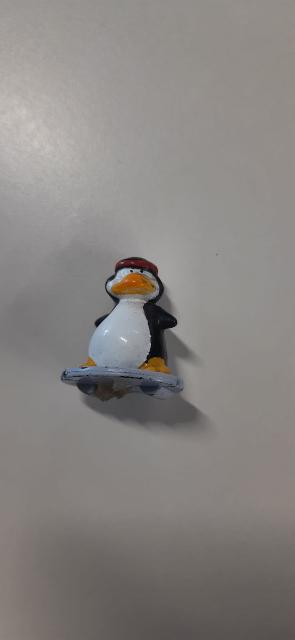Penguin: (66, 250, 184, 402)
